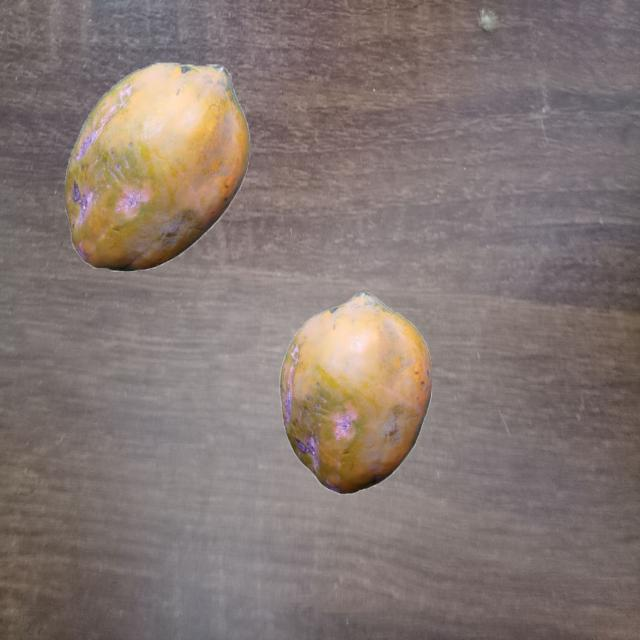Pepaya rippen: (59, 53, 261, 274), (276, 272, 444, 501)
